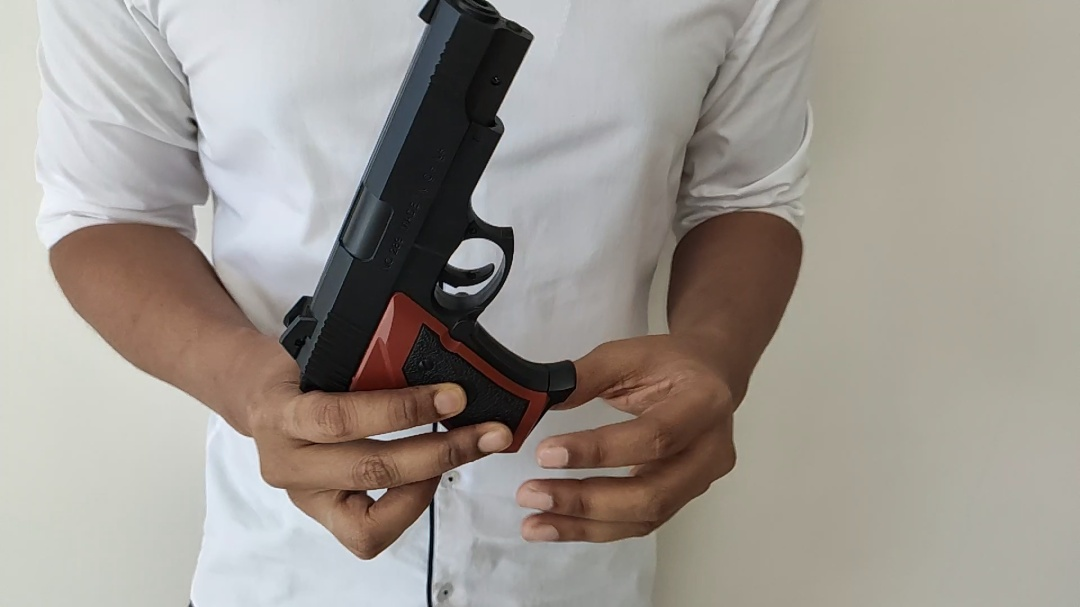gun: (279, 1, 579, 455)
